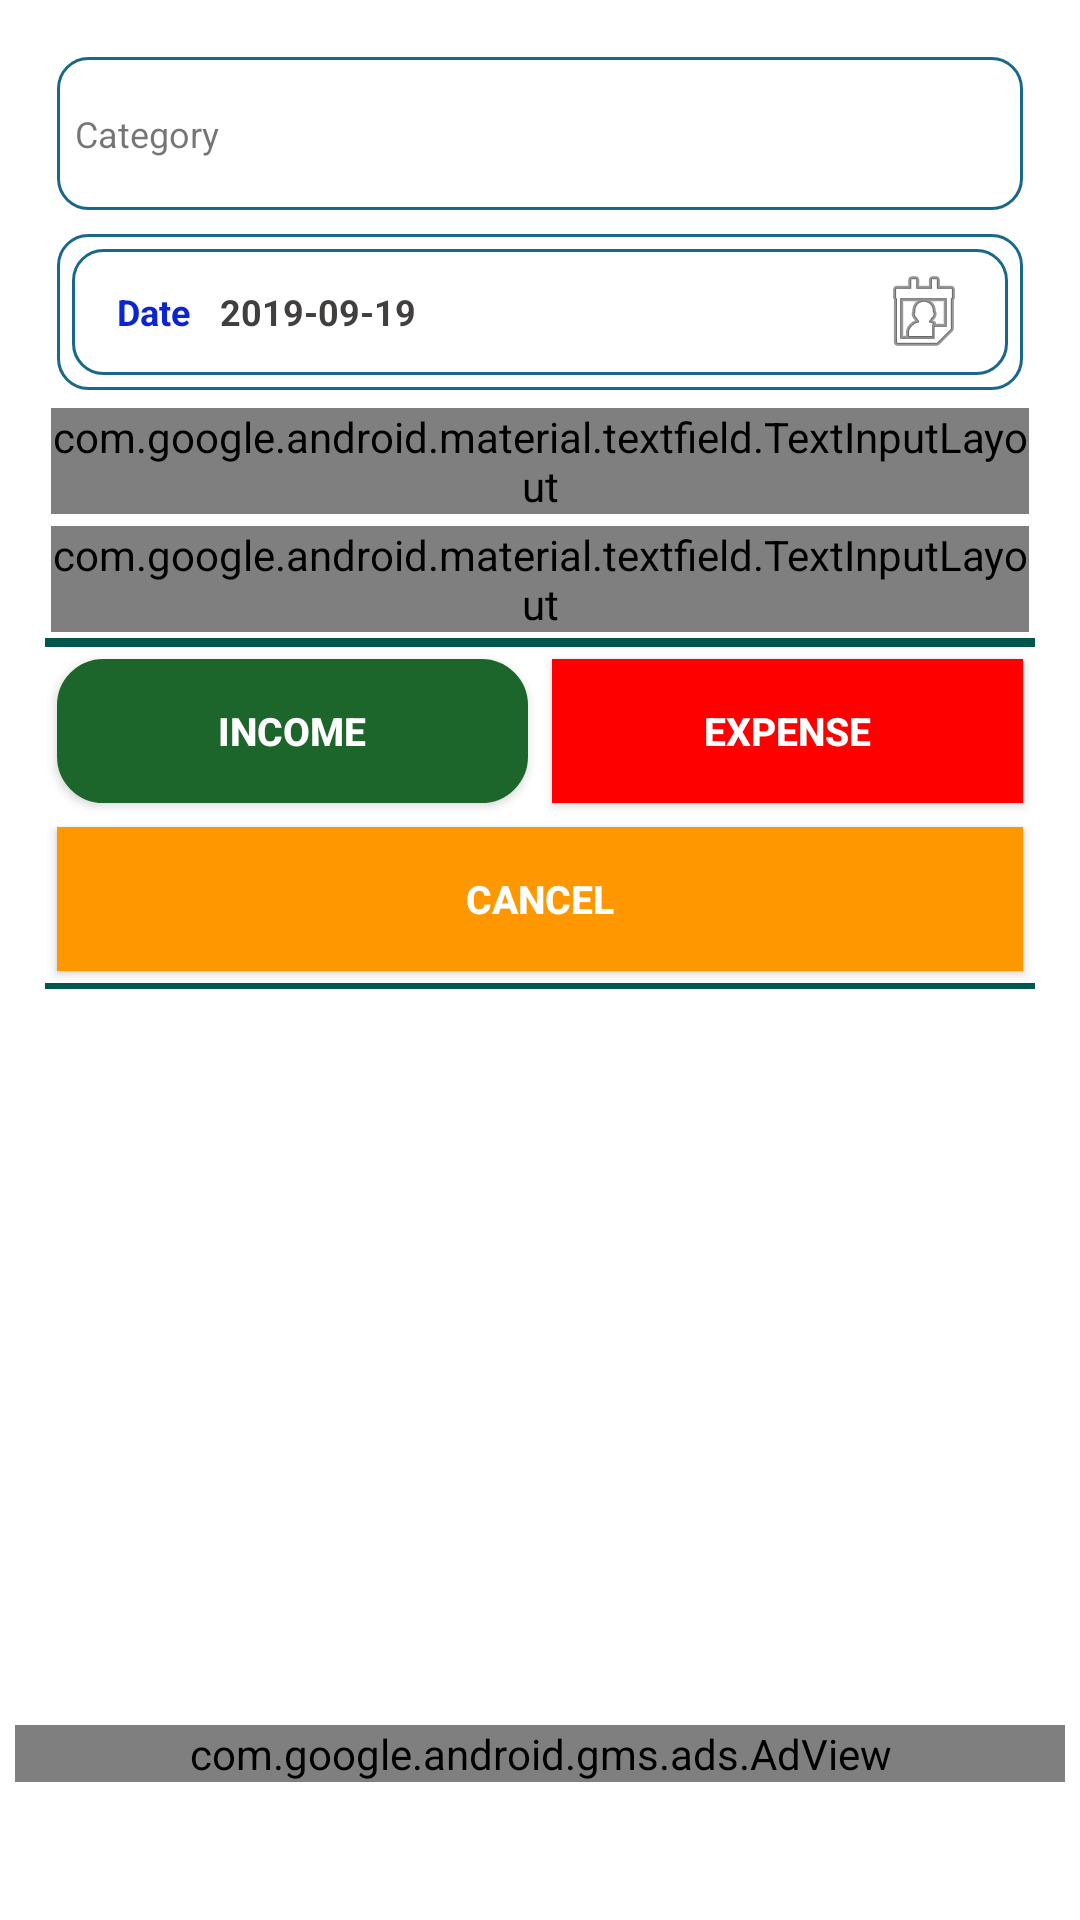

Screen size 1080px x 1920px. Icon name, then its center in pixels as [x,y]:
calendar: [924,311]
